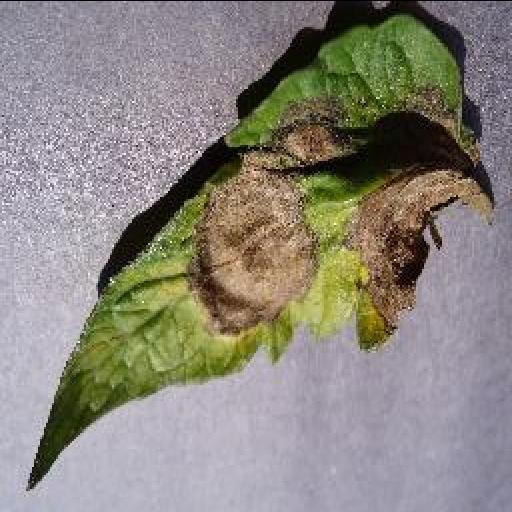disease_tomato: (18, 8, 498, 494)
